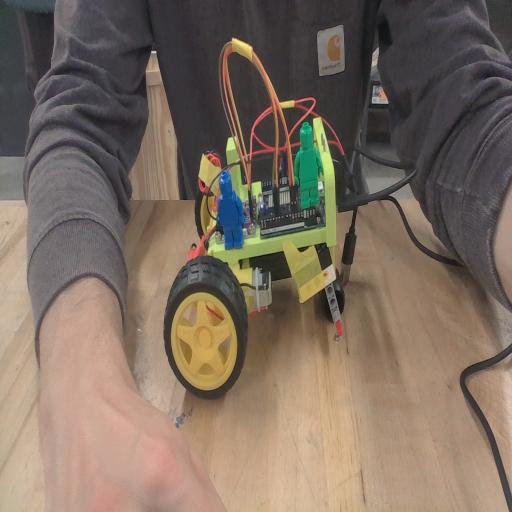blue LEGO minifig: (215, 167, 250, 253)
green LEGO minifig: (292, 119, 325, 214)
